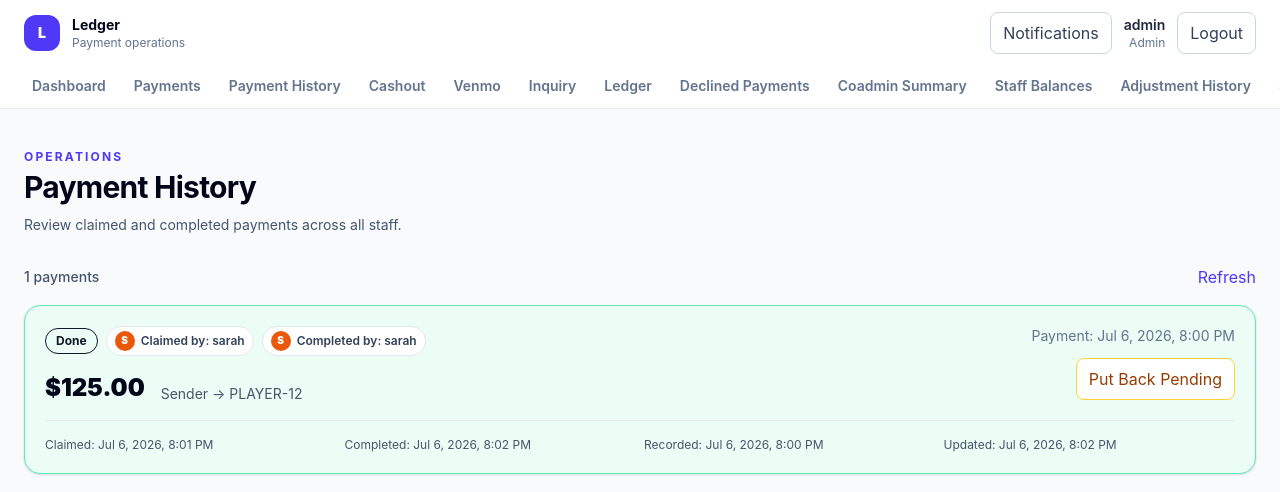
it: PaymentHistoryPage admin actions › reopens a done payment and removes it from history
Click the button "Put Back Pending": {"x": 1155, "y": 379} [1076, 358, 1235, 400]
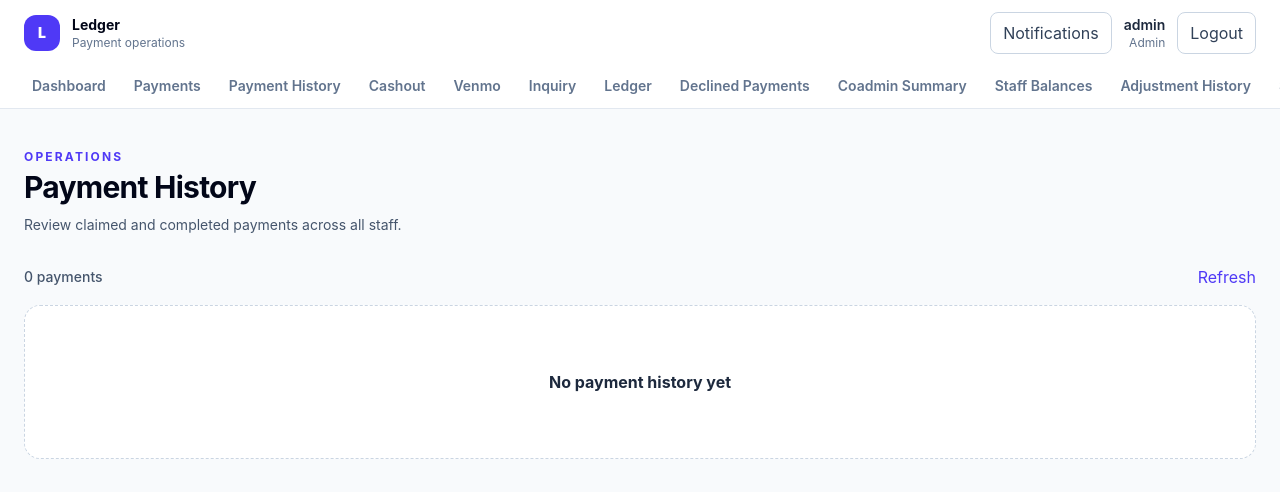
Result: the text "PLAYER-12" is gone
